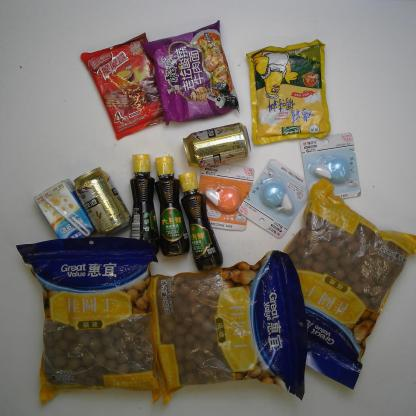Alcohol: (74, 167, 131, 237), (183, 122, 252, 168)
Dessert: (81, 32, 175, 141)
Dried Food: (246, 178, 416, 389), (15, 235, 163, 406), (148, 249, 308, 407)
Instant Noodles: (142, 20, 241, 126)
Milk: (34, 179, 96, 252)
Seasoner: (247, 39, 330, 146), (178, 170, 224, 272), (154, 156, 191, 256), (128, 153, 160, 257)
Stationery: (237, 160, 314, 238), (190, 159, 255, 232), (299, 133, 362, 204)
